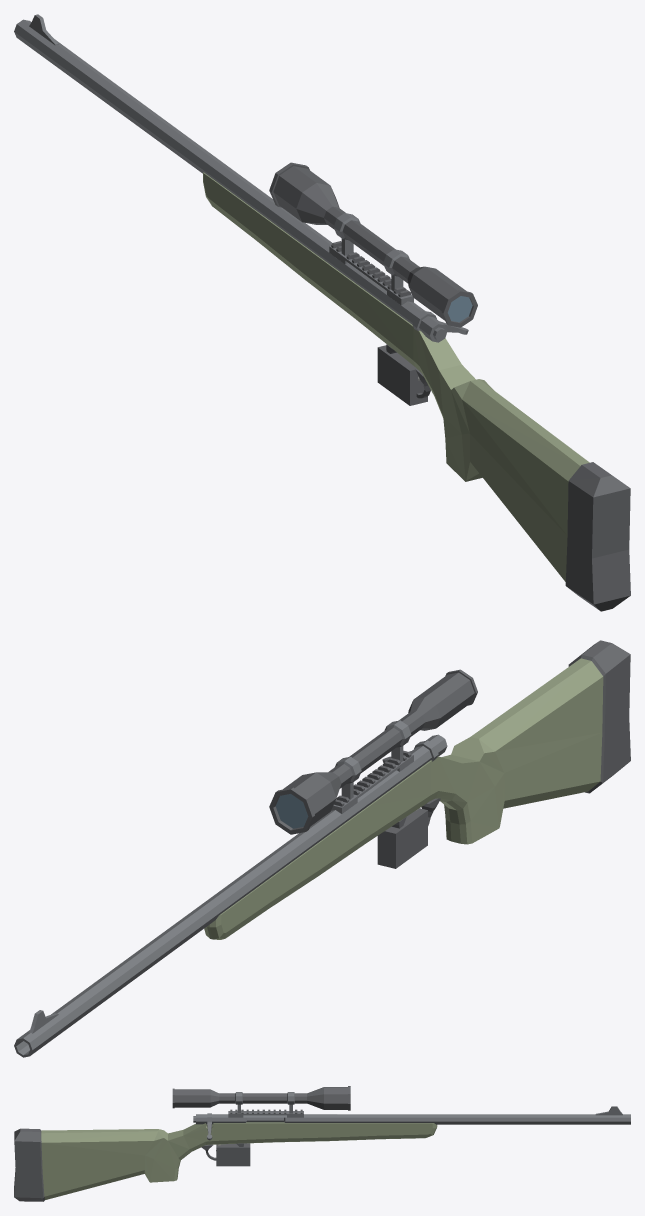
Rendered from hunt_4.glb.
The picture shows the model from 3 angles, top to bottom: view 1: azimuth 30°, elevation 25°; view 2: azimuth 150°, elevation 25°; view 3: azimuth 270°, elevation 25°; orthographic projection. The views are drawn at different scales.
Visible parts, largest first — view 1: body, mag; view 2: body, mag; view 3: body, mag.
Boxes of the visible parts, bbox=[...] form: body: bbox=[14, 14, 630, 611]; mag: bbox=[377, 345, 427, 405]; body: bbox=[14, 640, 630, 1057]; mag: bbox=[377, 808, 427, 868]; body: bbox=[14, 1086, 630, 1201]; mag: bbox=[216, 1143, 250, 1166].
Bounding box in the file's own units: 0.0835 × 0.2696 × 1.33.
